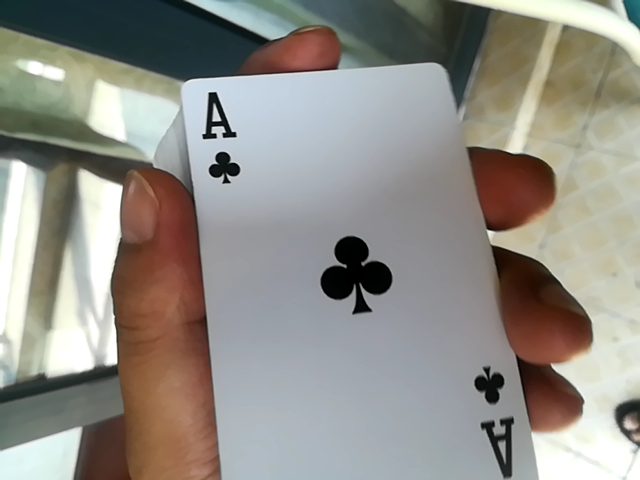mh a: (165, 50, 542, 477)
